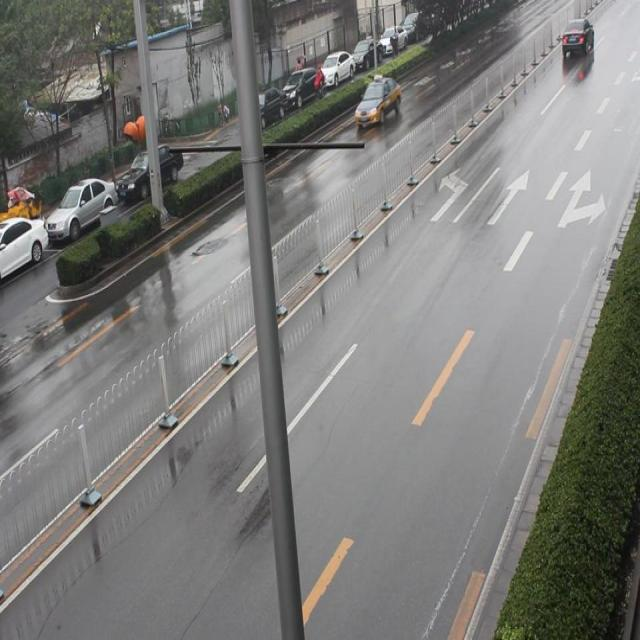car: (355, 70, 400, 136), (558, 14, 594, 58)
